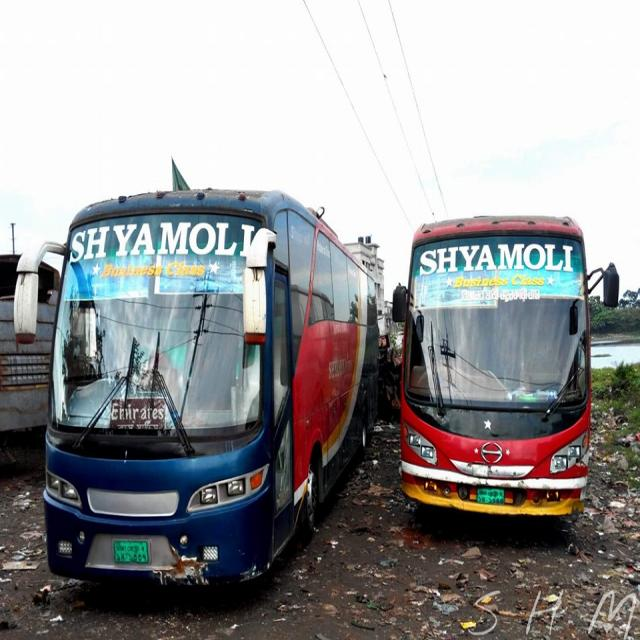bus: (12, 187, 382, 587), (389, 212, 621, 518)
